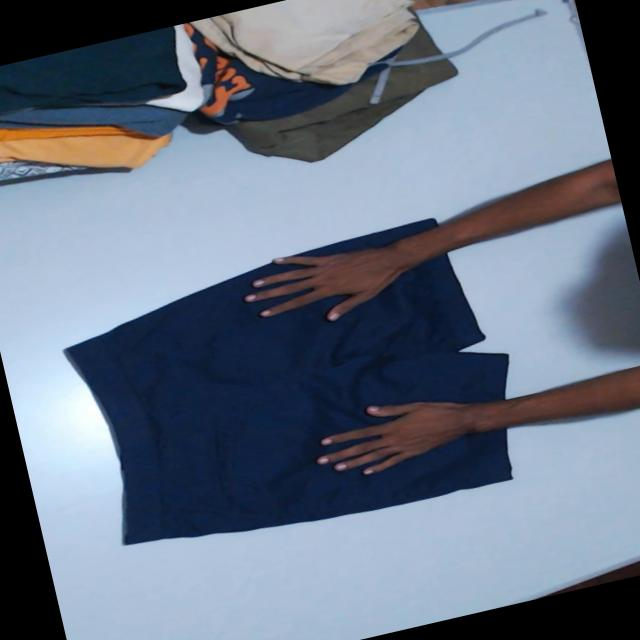new-garment: (66, 254, 511, 544), (66, 255, 511, 544), (300, 218, 436, 258)
